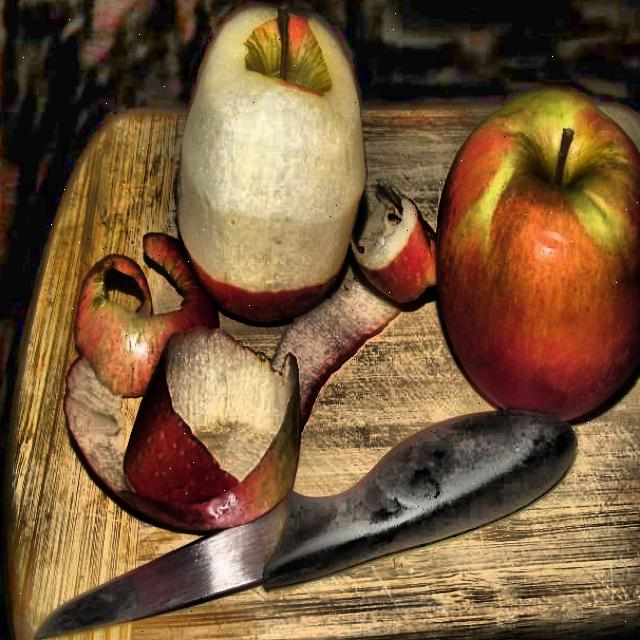knife: (25, 395, 583, 640)
